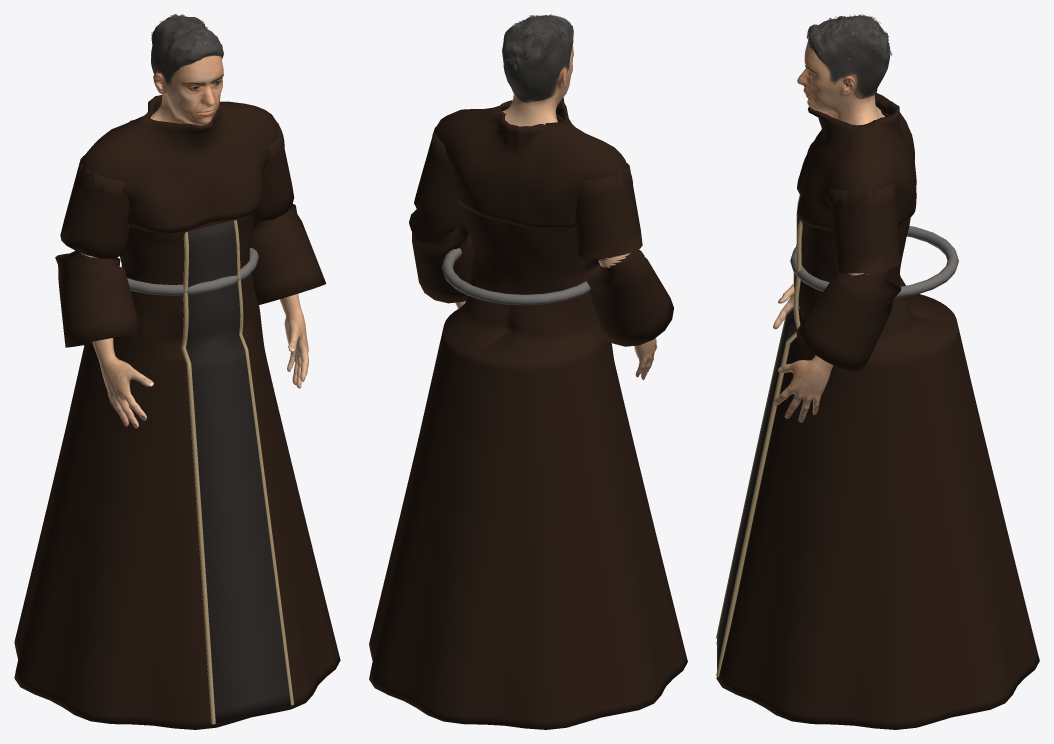
File: crew_foreman.glb
The picture shows the model from 3 angles, left to right: view 1: azimuth 30°, elevation 25°; view 2: azimuth 150°, elevation 25°; view 3: azimuth 270°, elevation 25°; orthographic projection. The views are drawn at different scales.
Parts seen in each view (by area): view 1: robe, tabard, mantle, sleeve.001, Human, sleeve, Human.short01, tabard_edge, tabard_edge.001, belt; view 2: robe, mantle, sleeve.001, sleeve, Human.short01, Human, belt; view 3: robe, sleeve, mantle, Human, Human.short01, tabard, tabard_edge.001, belt, tabard_edge.
Part boxes in pixels (bbox=[...]): robe: bbox=[14, 110, 340, 729]; tabard: bbox=[186, 220, 290, 723]; mantle: bbox=[79, 95, 284, 233]; sleeve.001: bbox=[55, 155, 141, 347]; Human: bbox=[80, 55, 309, 428]; sleeve: bbox=[250, 123, 326, 305]; Human.short01: bbox=[151, 14, 223, 84]; tabard_edge: bbox=[181, 232, 215, 724]; tabard_edge.001: bbox=[234, 220, 293, 705]; belt: bbox=[127, 248, 258, 295]; robe: bbox=[369, 114, 687, 729]; mantle: bbox=[432, 97, 633, 229]; sleeve.001: bbox=[575, 163, 673, 346]; sleeve: bbox=[409, 127, 473, 303]; Human.short01: bbox=[502, 14, 573, 102]; Human: bbox=[455, 46, 657, 380]; belt: bbox=[441, 248, 590, 305]; robe: bbox=[716, 110, 1039, 729]; sleeve: bbox=[796, 183, 901, 371]; mantle: bbox=[797, 93, 916, 231]; Human: bbox=[773, 40, 884, 422]; Human.short01: bbox=[806, 14, 892, 99]; tabard: bbox=[717, 196, 800, 670]; tabard_edge.001: bbox=[716, 220, 802, 676]; belt: bbox=[790, 226, 958, 298]; tabard_edge: bbox=[716, 195, 800, 638].
Size of the model in its own units: 0.7945 by 1.74 by 0.7868.
Materials: 9 (5 with a texture image).
